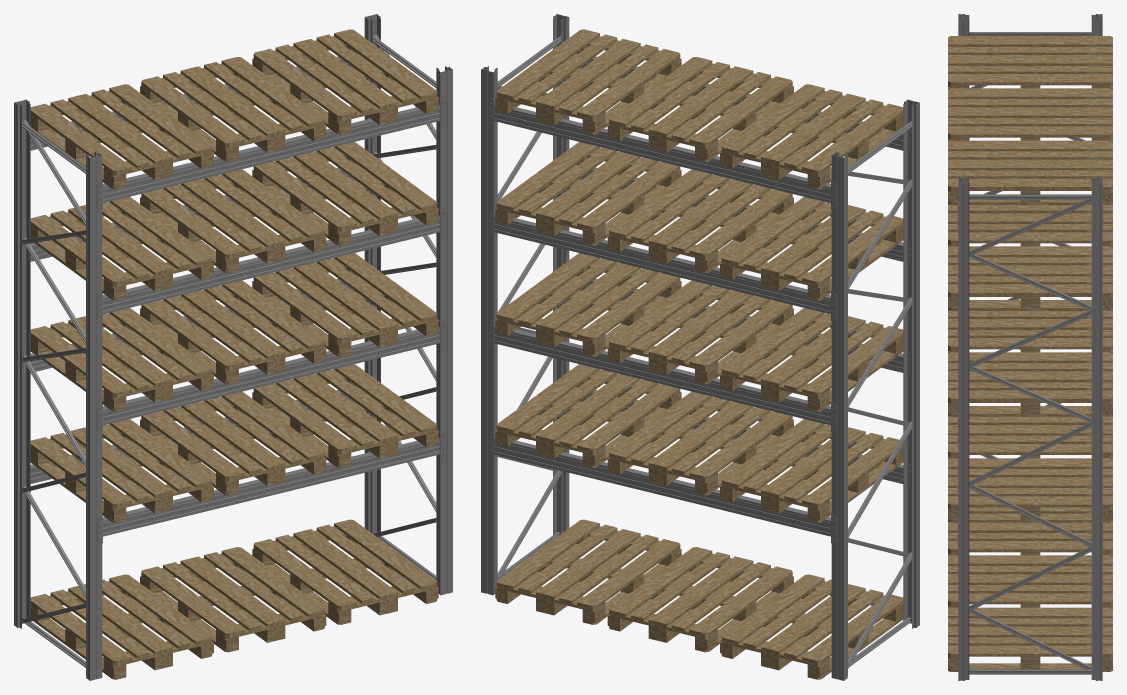
The model's file is shelf.glb.
3 views of the same model, side by side, from view 1: azimuth 30°, elevation 25°; view 2: azimuth 150°, elevation 25°; view 3: azimuth 270°, elevation 25° (orthographic). The views are drawn at different scales.
Parts seen in each view (by area): view 1: Solid1; view 2: Solid1; view 3: Solid1.
Boxes of the visible parts, left/top/right/bottom form: Solid1: left=14, top=14, right=452, bottom=680; Solid1: left=481, top=14, right=919, bottom=680; Solid1: left=948, top=14, right=1112, bottom=680.
Size of the model in its own units: 2.91 by 4 by 1.2.
2 materials, 1 textured.
